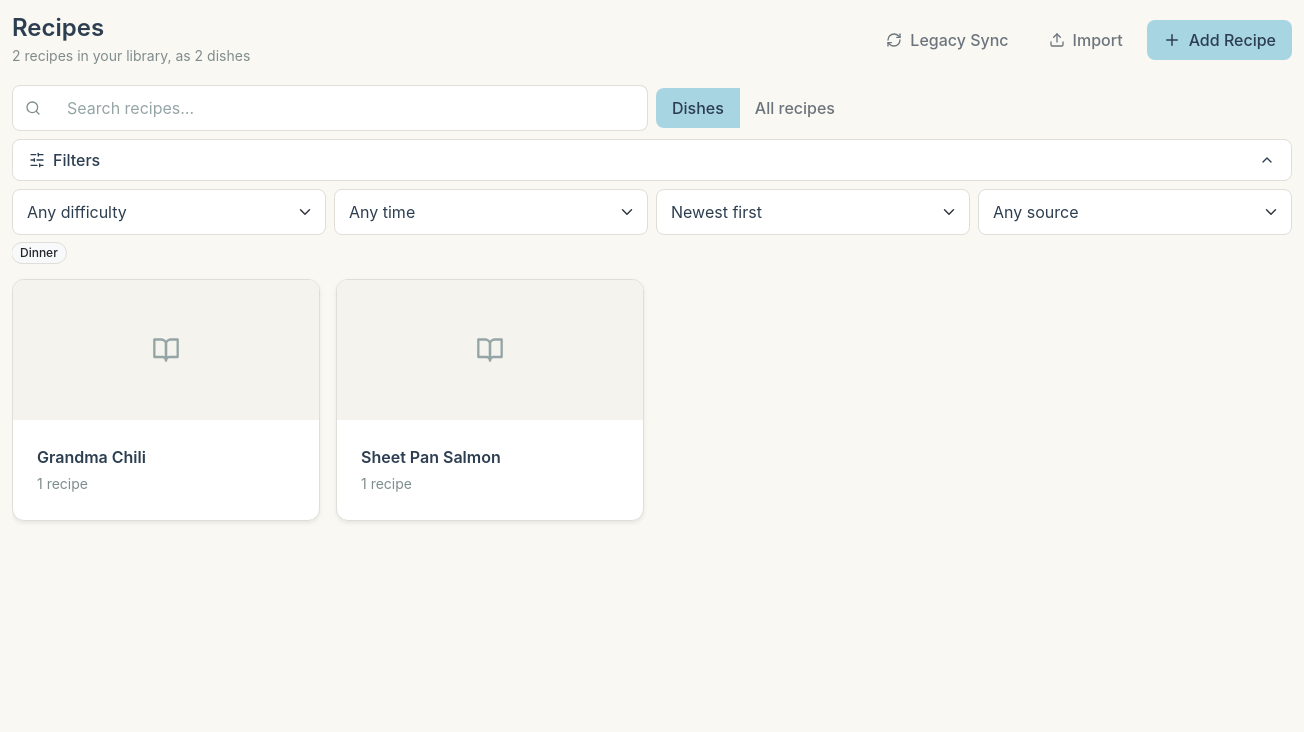
Recipes page — cooking › surfaces a failure rather than silently doing nothing
Click the button "All recipes" at point(795, 108), box [739, 88, 851, 128]
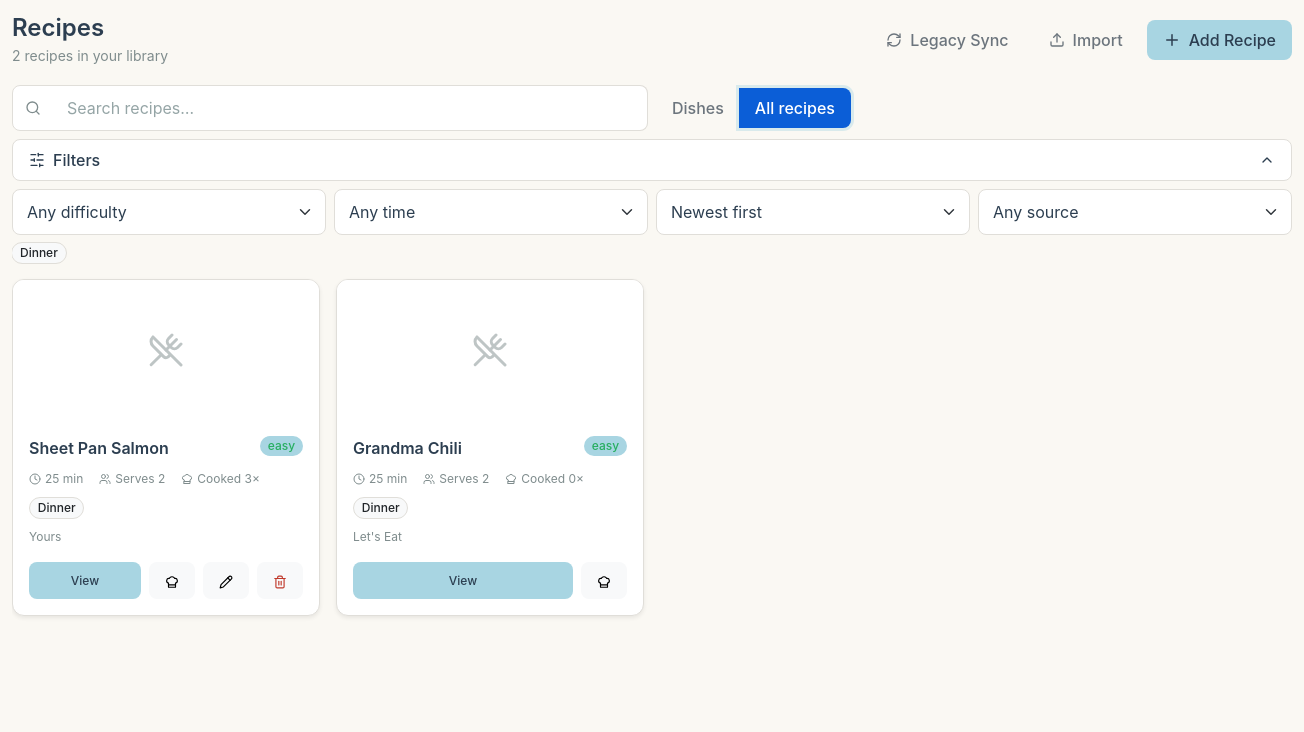
Click the button named "I cooked Sheet Pan Salmon" at point(172, 581), box [149, 562, 195, 599]
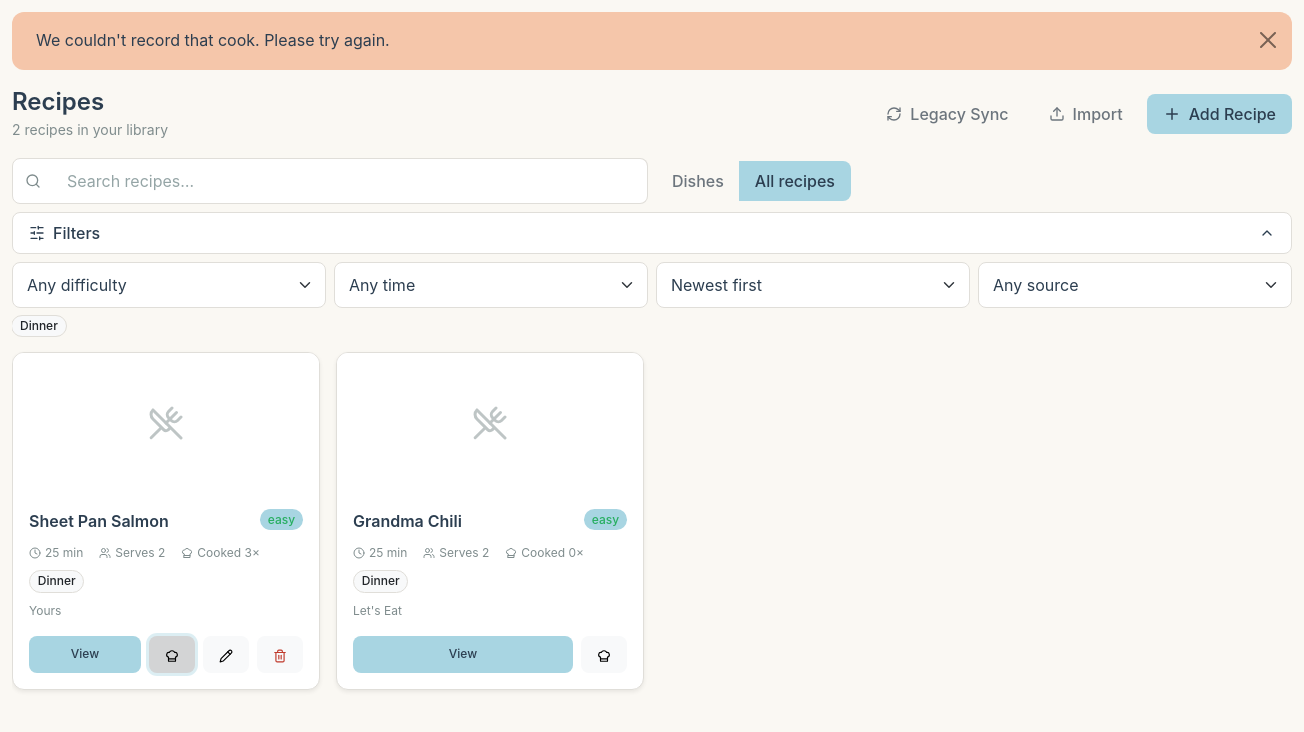
Check: the text "We couldn't record that cook. Please try again." is shown, box [12, 12, 1292, 70]
